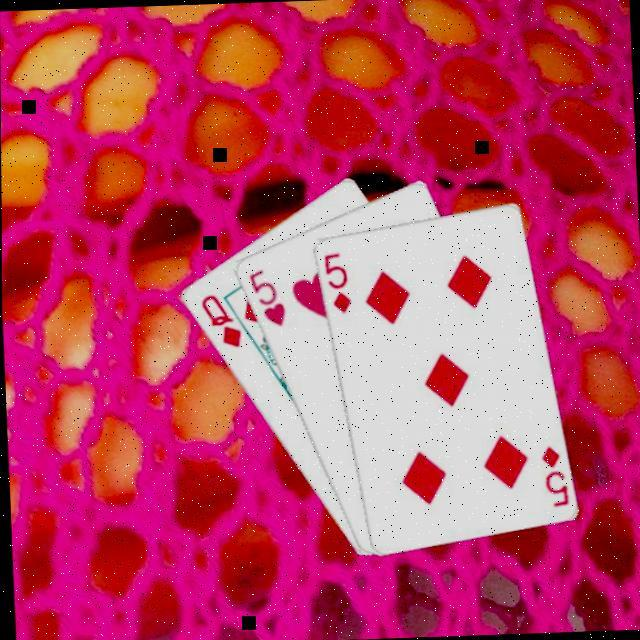5D: (321, 251, 355, 319), (538, 443, 572, 511)
5H: (245, 267, 289, 332)
QD: (198, 291, 246, 353)
